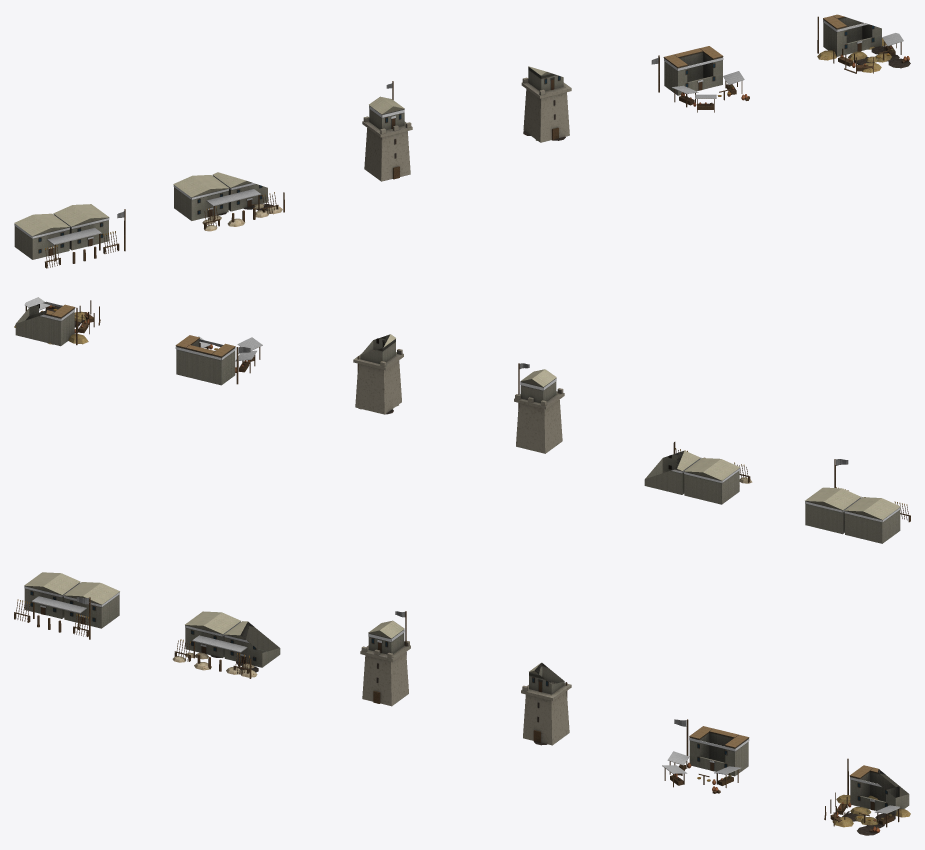
The model's file is rts-classical-americas.glb.
The picture shows the model from 3 angles, top to bottom: view 1: azimuth 30°, elevation 25°; view 2: azimuth 150°, elevation 25°; view 3: azimuth 330°, elevation 25°; orthographic projection.
Visible parts, largest first — view 1: LOD0, LOD0.001, LOD0.005, LOD0.002, LOD0.004, LOD0.003; view 2: LOD0, LOD0.001, LOD0.002, LOD0.003, LOD0.004, LOD0.005; view 3: LOD0.001, LOD0, LOD0.005, LOD0.004, LOD0.002, LOD0.003.
Boxes of the visible parts, x1,y1,x2,y2 form: LOD0: (14, 204, 125, 268); LOD0.001: (173, 172, 284, 231); LOD0.005: (817, 14, 910, 73); LOD0.002: (362, 81, 412, 181); LOD0.004: (651, 46, 749, 112); LOD0.003: (521, 66, 571, 142); LOD0: (805, 459, 910, 543); LOD0.001: (644, 442, 752, 504); LOD0.002: (514, 363, 564, 453); LOD0.003: (353, 334, 403, 414); LOD0.004: (175, 335, 262, 385); LOD0.005: (14, 297, 100, 346); LOD0.001: (172, 611, 280, 678); LOD0: (14, 572, 119, 639); LOD0.005: (824, 758, 910, 835); LOD0.004: (662, 719, 749, 793); LOD0.002: (360, 611, 410, 706); LOD0.003: (521, 662, 571, 745).
Size of what is drawn, in the model's own units: 16.36 by 1.49 by 1.37.
2 materials, 2 textured.
